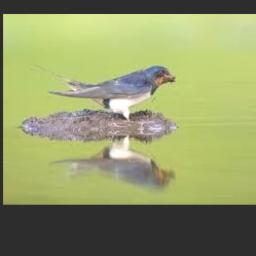Swallow: (30, 65, 175, 121)
